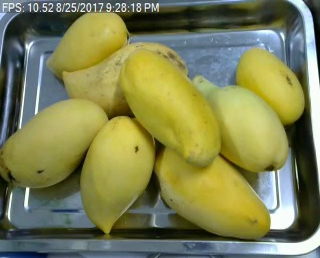Mango: (152, 137, 272, 239), (120, 49, 221, 167), (0, 98, 109, 188), (62, 42, 189, 119), (190, 74, 287, 171), (78, 115, 151, 234), (48, 10, 130, 82), (236, 47, 304, 122)
